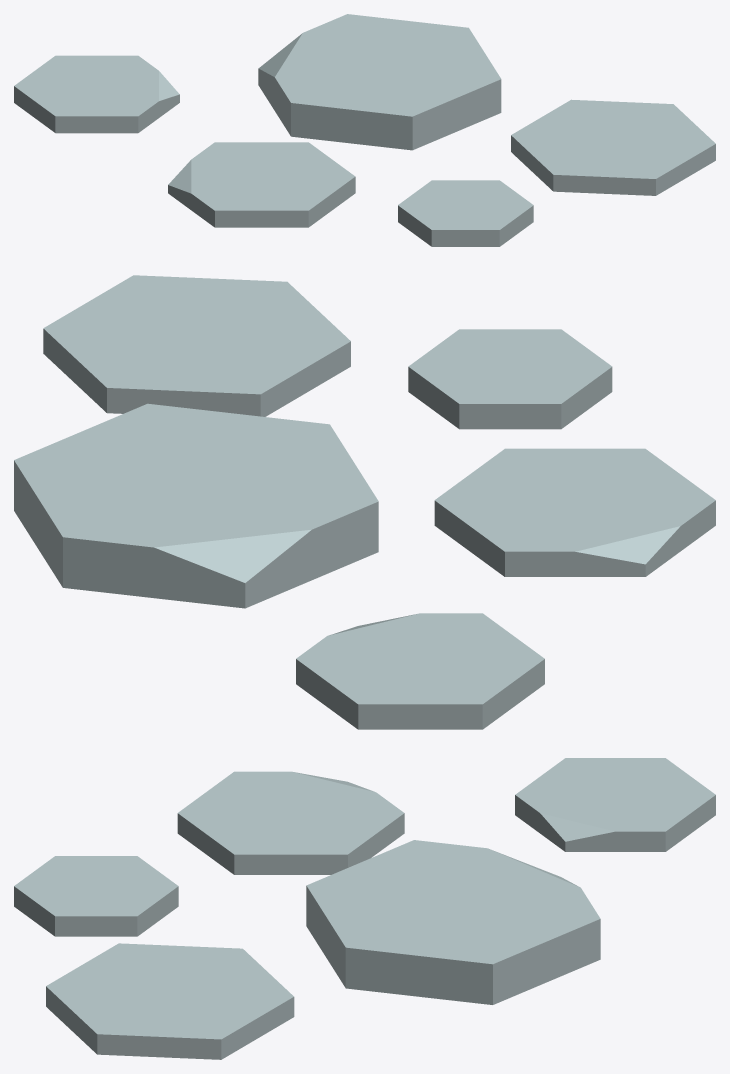
The model's file is path_stoneCorner.glb.
The picture shows the model from 3 angles, top to bottom: view 1: azimuth 30°, elevation 25°; view 2: azimuth 150°, elevation 25°; view 3: azimuth 270°, elevation 25°; orthographic projection. The views are drawn at different scales.
Parts seen in each view (by area): view 1: path_stoneCorner; view 2: path_stoneCorner; view 3: path_stoneCorner.
Part boxes in pixels (left/top/right/bottom): path_stoneCorner: left=14, top=14, right=715, bottom=246; path_stoneCorner: left=14, top=275, right=715, bottom=729; path_stoneCorner: left=14, top=758, right=715, bottom=1059.
Bounding box in the file's own units: 0.7383 × 0.05 × 0.7784.
